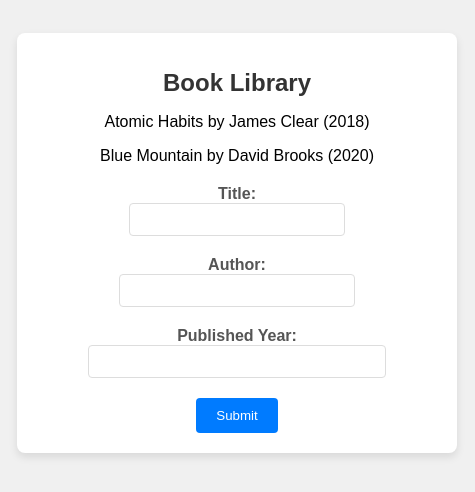
Test: adds a new book to the list and clears the input fields
In the field labelled "Title:": (237, 220) [128, 203, 345, 236], type "New Book Title"
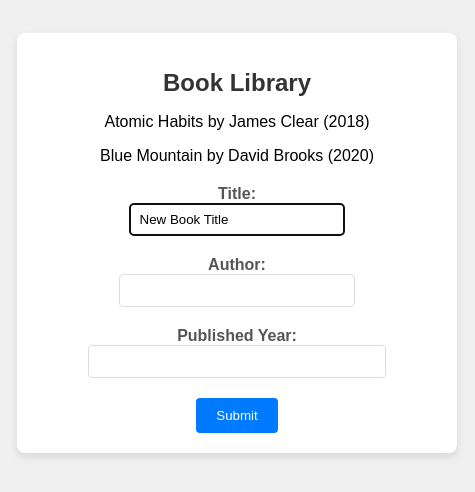
In the field labelled "Author:": (237, 291) [119, 274, 355, 307], type "New Book Author"
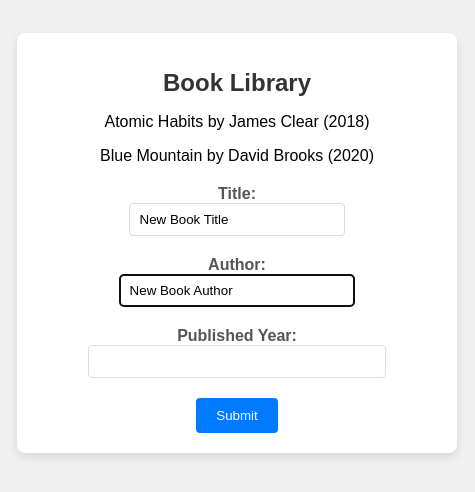
In the field labelled "Published Year:": (237, 362) [88, 345, 386, 378], type "2024"
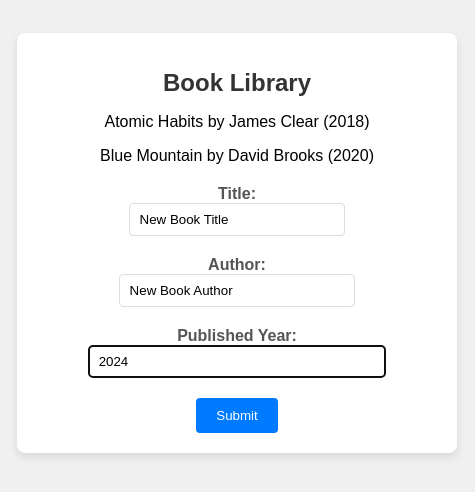
Click the button "Submit": (237, 416) [196, 398, 278, 433]
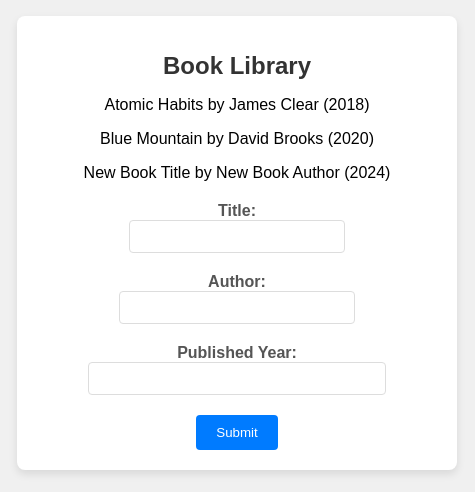
Now the text "New Book Title by New Book Author (2024)" is shown, box [84, 164, 390, 181]
Now the field labelled "Title:" is empty, box [128, 220, 345, 253]
Now the field labelled "Author:" is empty, box [119, 291, 355, 324]
